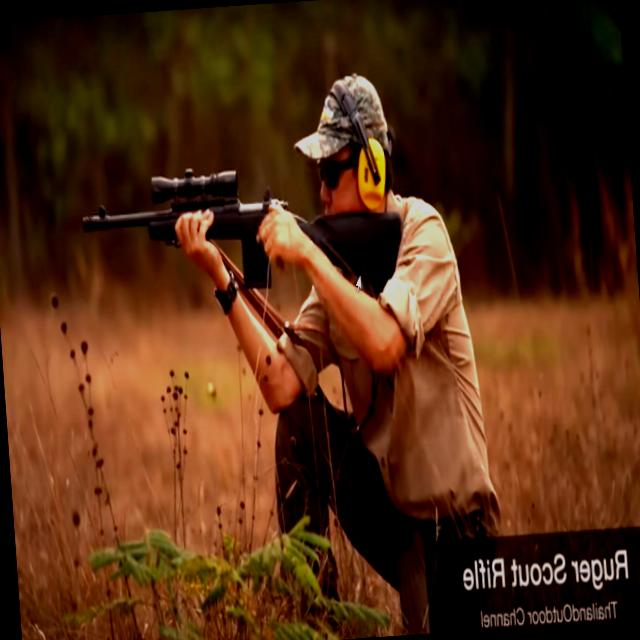rifle: (74, 144, 411, 330)
